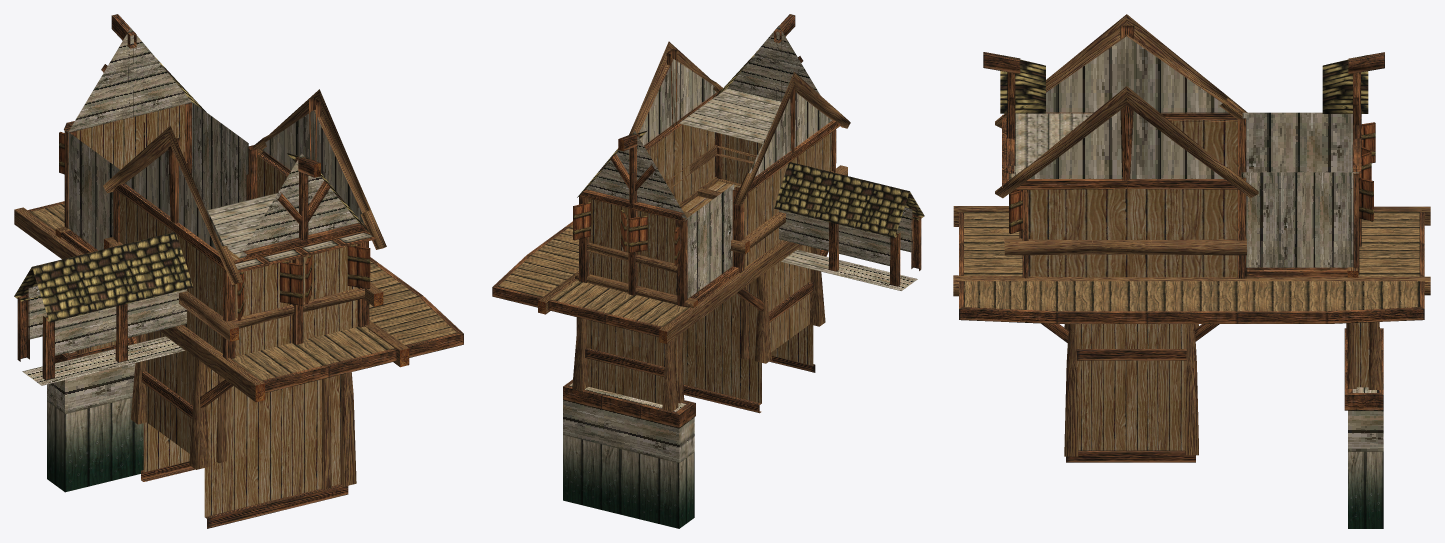
Rendered from LAKETOWN_EXTERIOR_PS_LT_FISHINGCOTTAGE95__GX.fbx.
3 views of the same model, side by side, from view 1: azimuth 30°, elevation 25°; view 2: azimuth 150°, elevation 25°; view 3: azimuth 270°, elevation 25° (orthographic). The views are drawn at different scales.
Parts seen in each view (by area): view 1: LAKETOWN_EXTERIOR_PS_LT_FISHINGCOTTAGE95__GX; view 2: LAKETOWN_EXTERIOR_PS_LT_FISHINGCOTTAGE95__GX; view 3: LAKETOWN_EXTERIOR_PS_LT_FISHINGCOTTAGE95__GX.
Boxes of the visible parts, x1,y1,x2,y2 form: LAKETOWN_EXTERIOR_PS_LT_FISHINGCOTTAGE95__GX: [14, 14, 463, 528]; LAKETOWN_EXTERIOR_PS_LT_FISHINGCOTTAGE95__GX: [492, 14, 924, 528]; LAKETOWN_EXTERIOR_PS_LT_FISHINGCOTTAGE95__GX: [953, 14, 1430, 528].
Bounding box in the file's own units: 115470 × 139959 × 136058.
12 materials, 12 textured.
